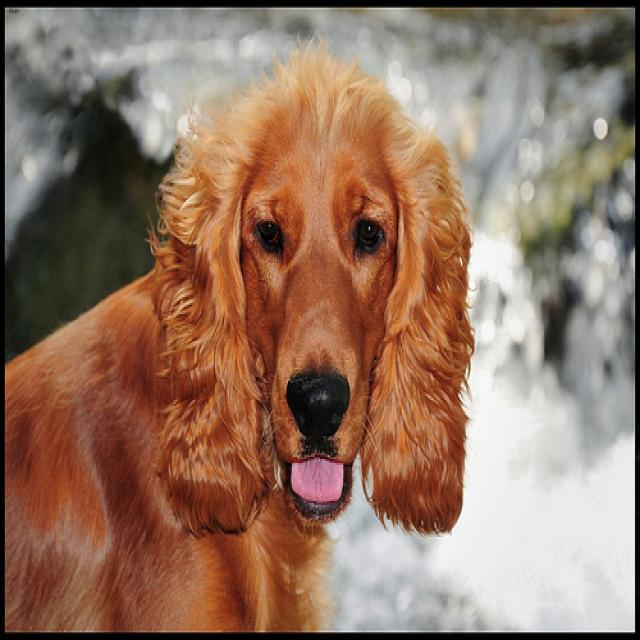dog-english_cocker_spaniel: (1, 23, 483, 636)
